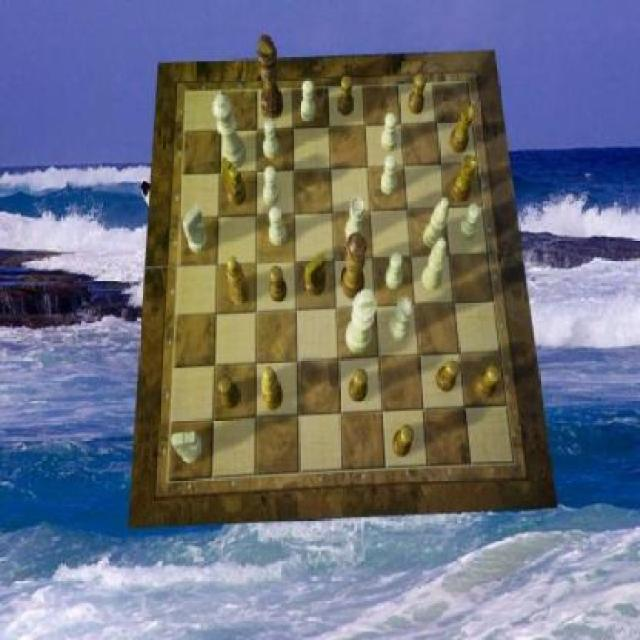bishop: (228, 256, 252, 304), (262, 368, 282, 412)
black-bishop: (257, 36, 284, 120)
black-king: (222, 157, 246, 206), (304, 252, 326, 296)
black-knight: (436, 358, 460, 392), (477, 365, 501, 399), (218, 377, 240, 411), (392, 425, 415, 457), (408, 74, 425, 115), (348, 369, 368, 403), (338, 75, 354, 117), (269, 268, 287, 302)
black-pawn: (340, 234, 367, 300)
black-queen: (451, 154, 478, 201), (451, 104, 475, 154)
black-rook: (423, 198, 449, 251), (423, 237, 448, 291)
white-bishop: (346, 289, 377, 355)
white-king: (183, 204, 209, 253), (171, 430, 203, 464)
white-knight: (458, 203, 479, 241), (380, 155, 398, 194), (263, 117, 280, 158), (269, 206, 287, 244), (300, 80, 316, 122), (385, 252, 402, 290), (263, 168, 280, 206), (382, 114, 398, 152)
white-pawn: (214, 94, 248, 168)
white-queen: (389, 297, 413, 341), (346, 197, 366, 245)
